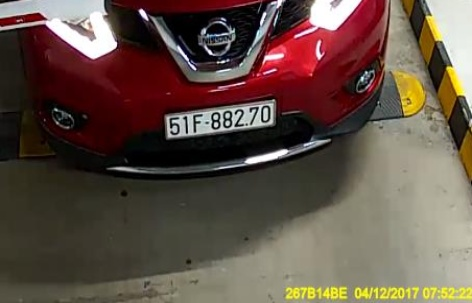plate: (160, 93, 283, 147)
